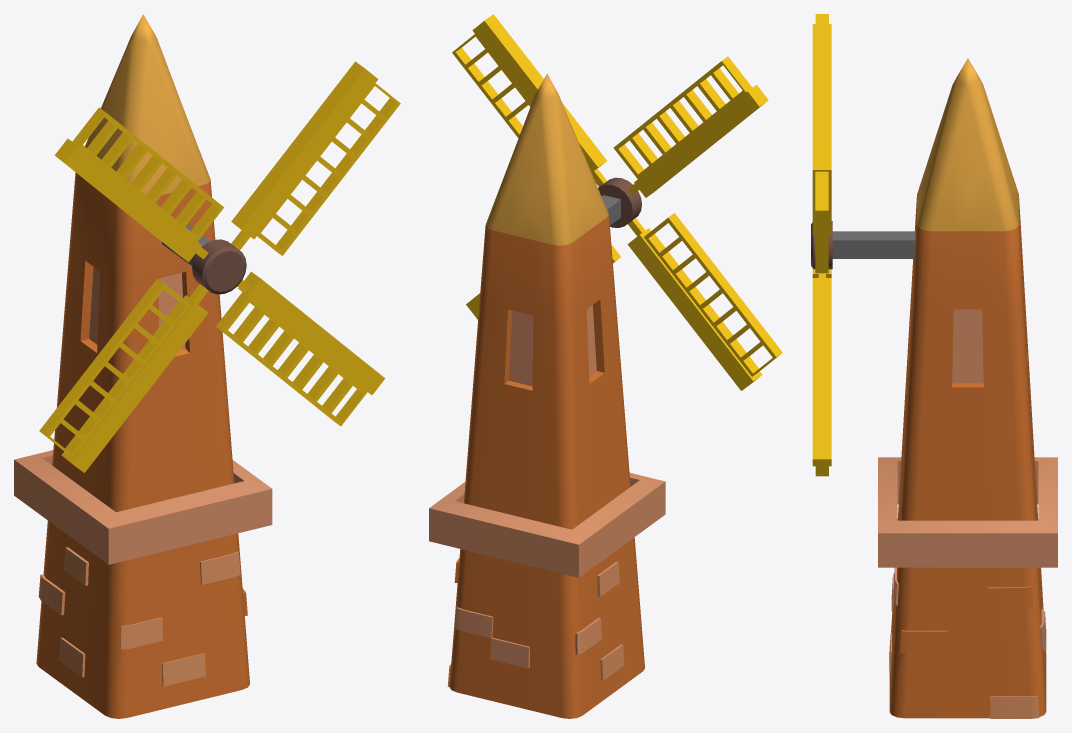
The model's file is windmill.fbx.
3 renders of one model, left to right at view 1: azimuth 30°, elevation 25°; view 2: azimuth 150°, elevation 25°; view 3: azimuth 270°, elevation 25°, orthographic. The views are drawn at different scales.
Visible parts, largest first — view 1: windmill2; view 2: windmill2; view 3: windmill2.
Boxes of the visible parts, x1,y1,x2,y2 form: windmill2: (14, 14, 400, 718); windmill2: (429, 14, 782, 718); windmill2: (811, 14, 1057, 718).
Size of the model in its own units: 671 by 1192 by 425.
